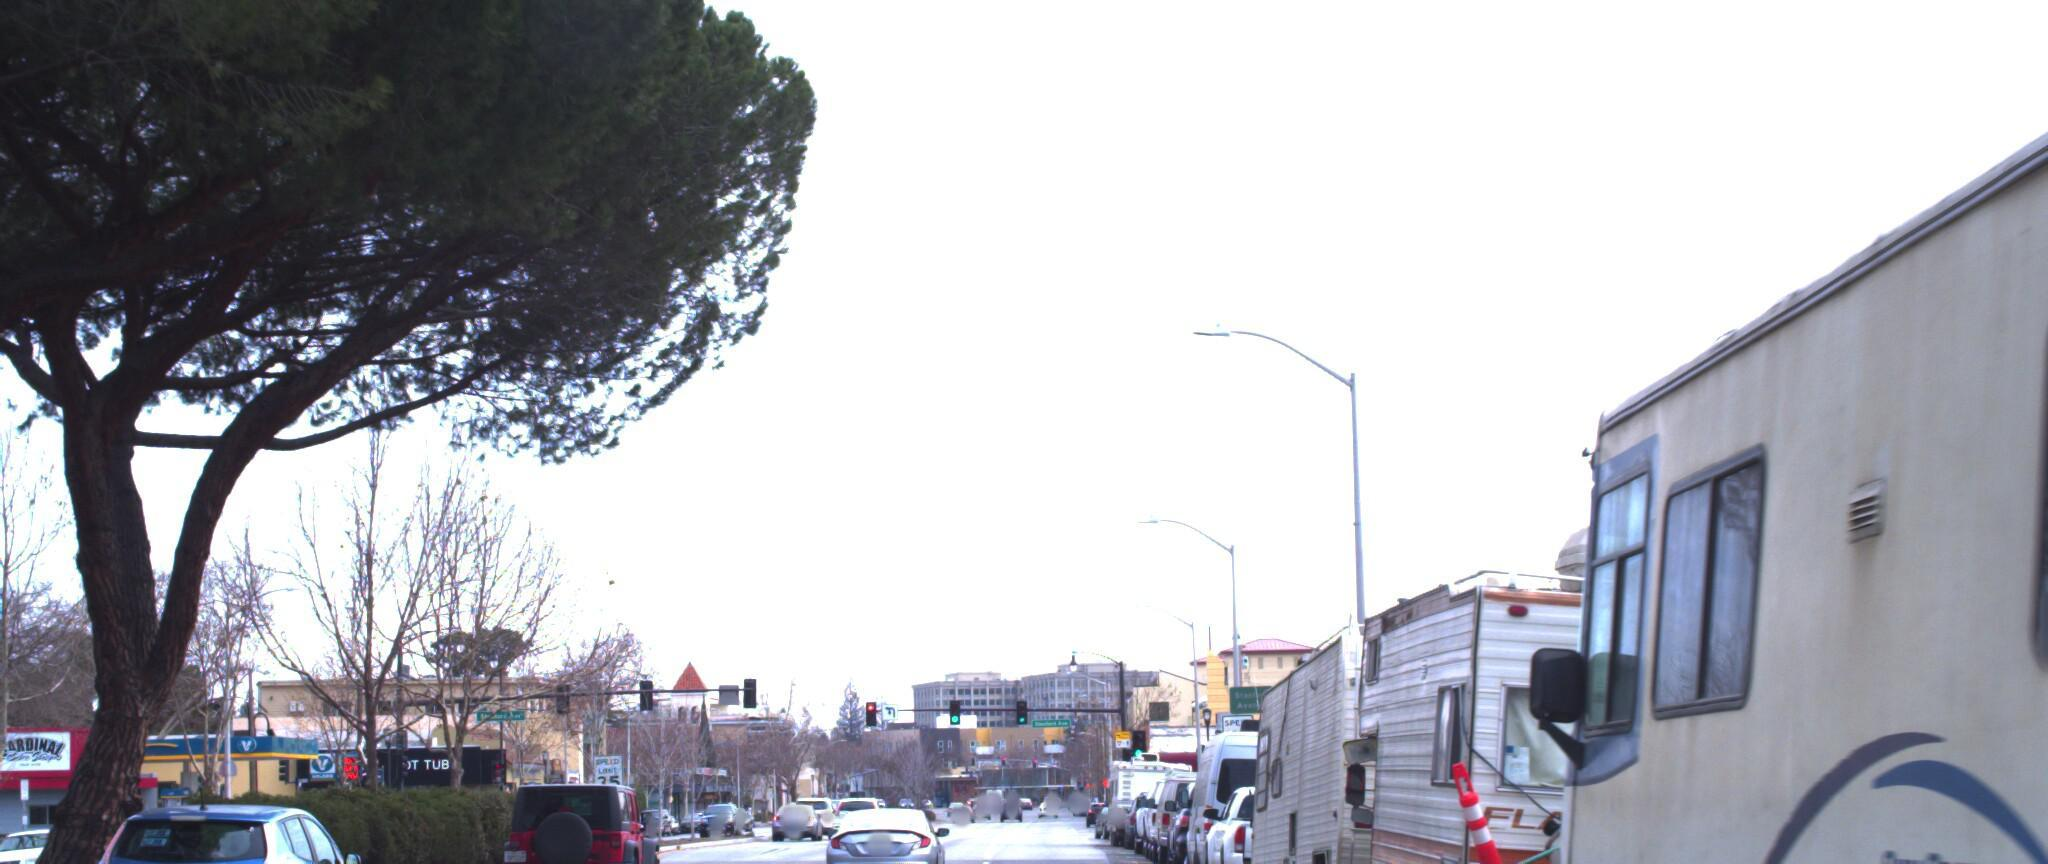car: (63, 780, 387, 864), (1172, 713, 1337, 864), (488, 777, 654, 864), (1200, 777, 1360, 864), (818, 786, 936, 864)
other_vehicle: (1531, 0, 2048, 864), (1332, 532, 2048, 864), (1236, 566, 1699, 864)
